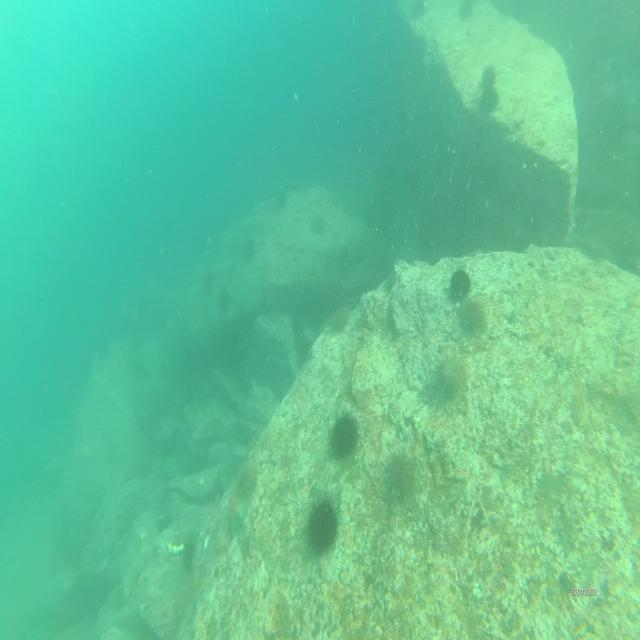echinus: (379, 443, 420, 501), (431, 350, 471, 395), (309, 496, 336, 552), (333, 406, 357, 460), (459, 296, 485, 334), (448, 268, 474, 300), (274, 191, 290, 219), (308, 211, 326, 234), (456, 0, 475, 21), (242, 236, 256, 263), (480, 91, 496, 114), (217, 285, 230, 313), (480, 66, 496, 86), (408, 4, 428, 13)
starfish: (221, 494, 247, 542)
